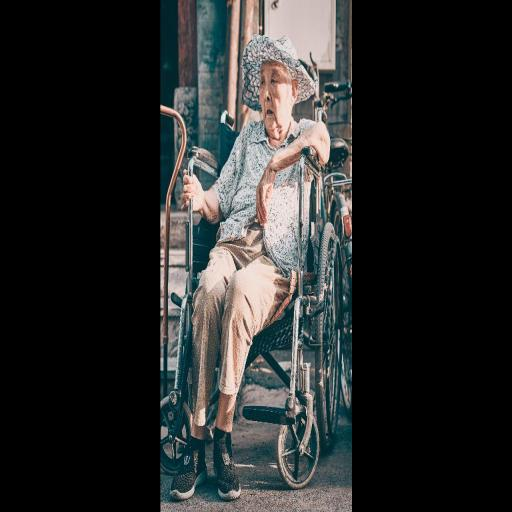cadeira_de_rodas: (162, 30, 352, 497)
